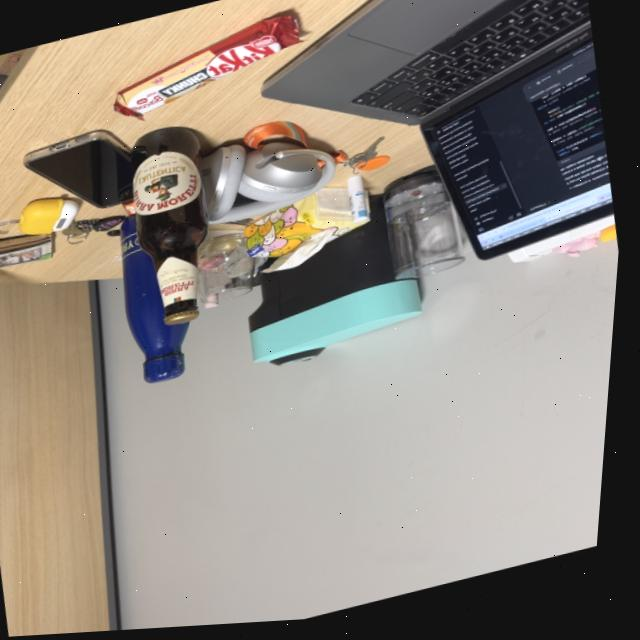beer: (105, 114, 250, 342)
chocolate: (101, 7, 320, 127)
